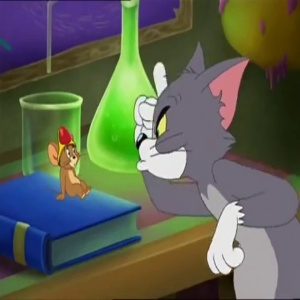Jerry: (40, 125, 83, 170)
Tom: (131, 33, 248, 184)
